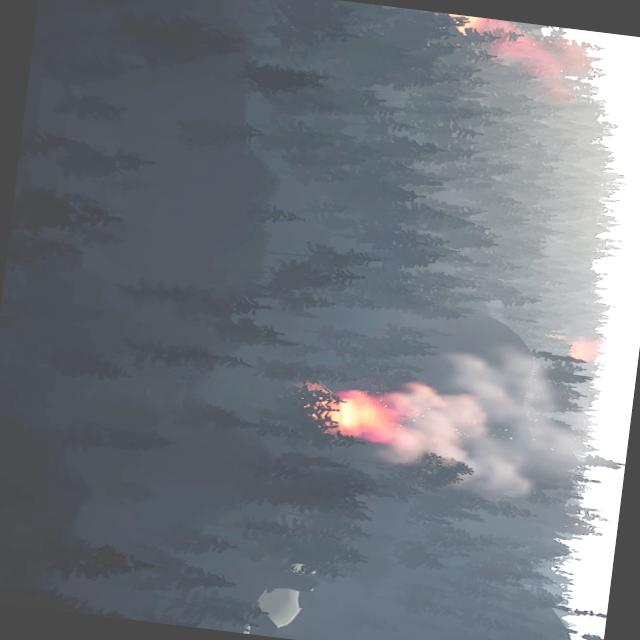fire: (306, 380, 403, 440), (565, 336, 604, 364), (442, 13, 487, 34)
smoke: (374, 330, 600, 509), (472, 18, 616, 113)
